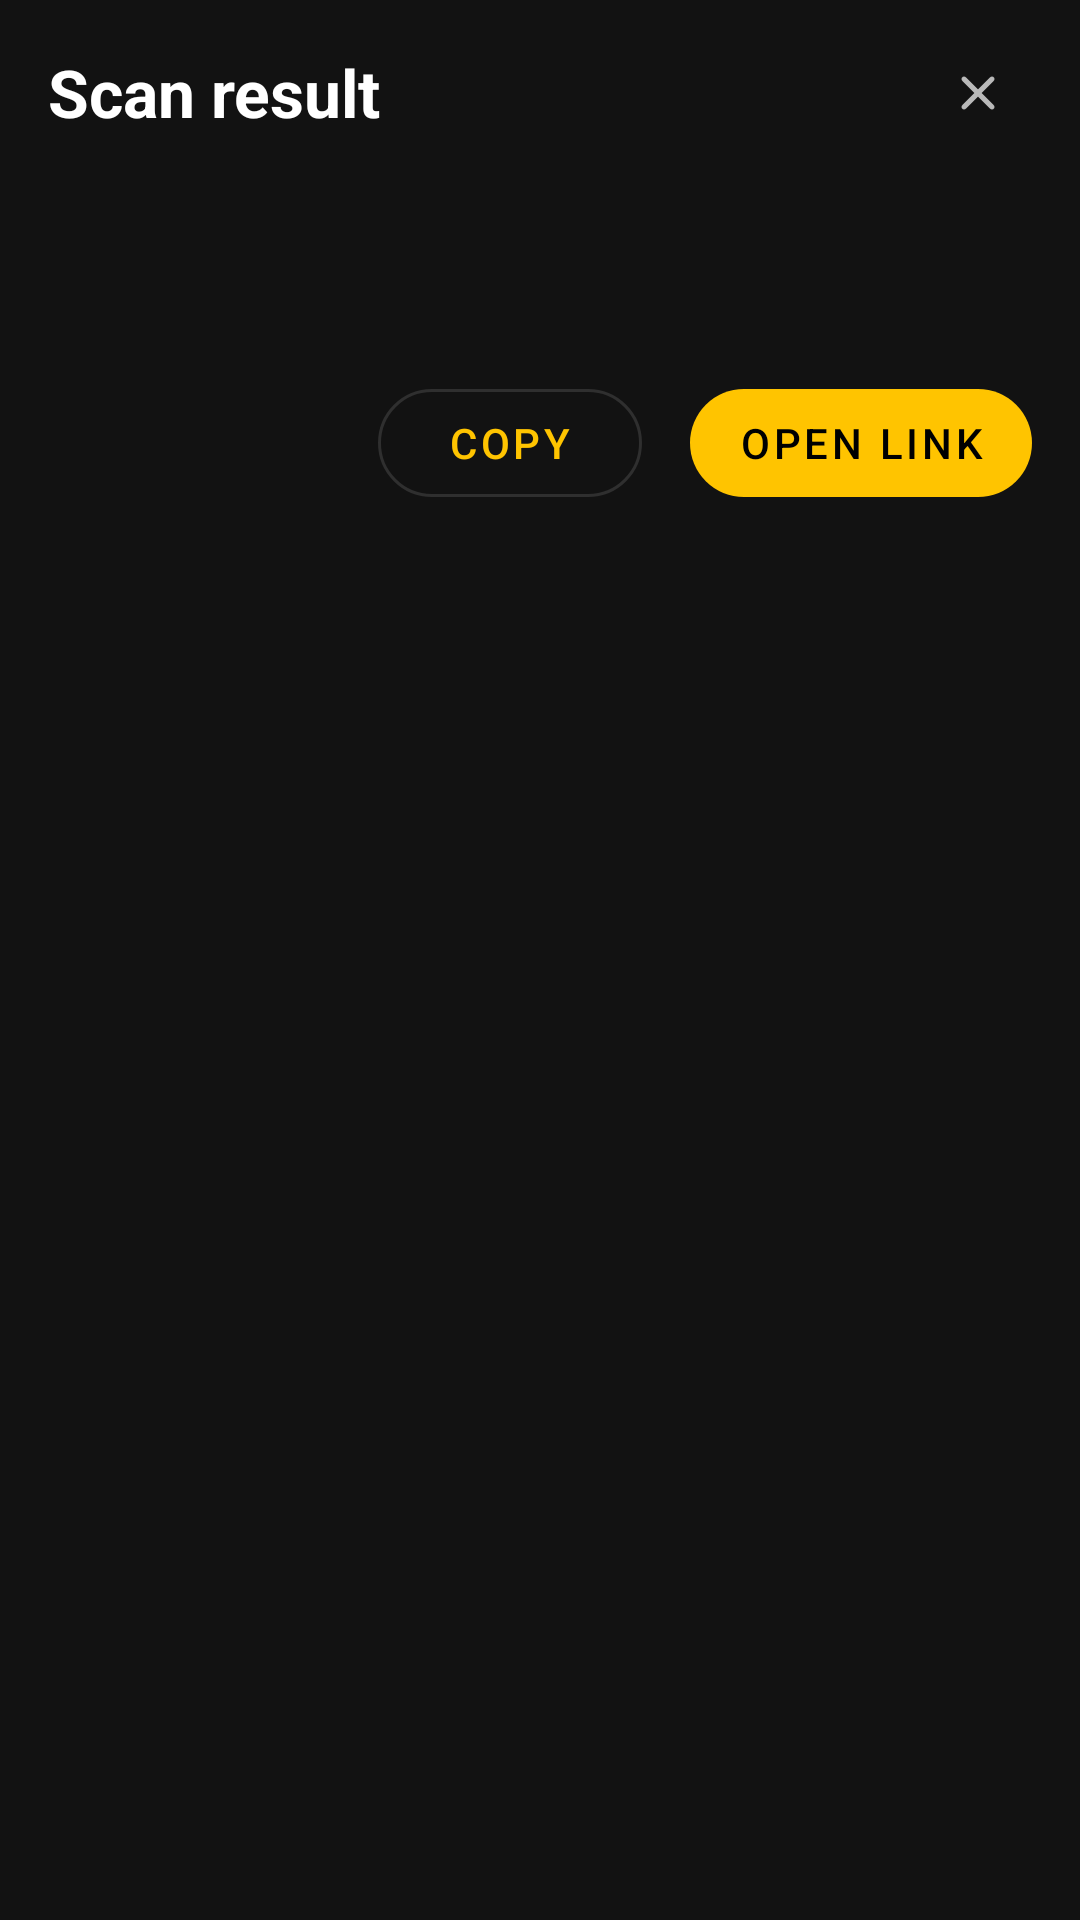

Named icons in this screenshot (1080*1920) and their bounding boxes, (x1, y1, x2, y2):
close: (961, 76, 995, 110)
